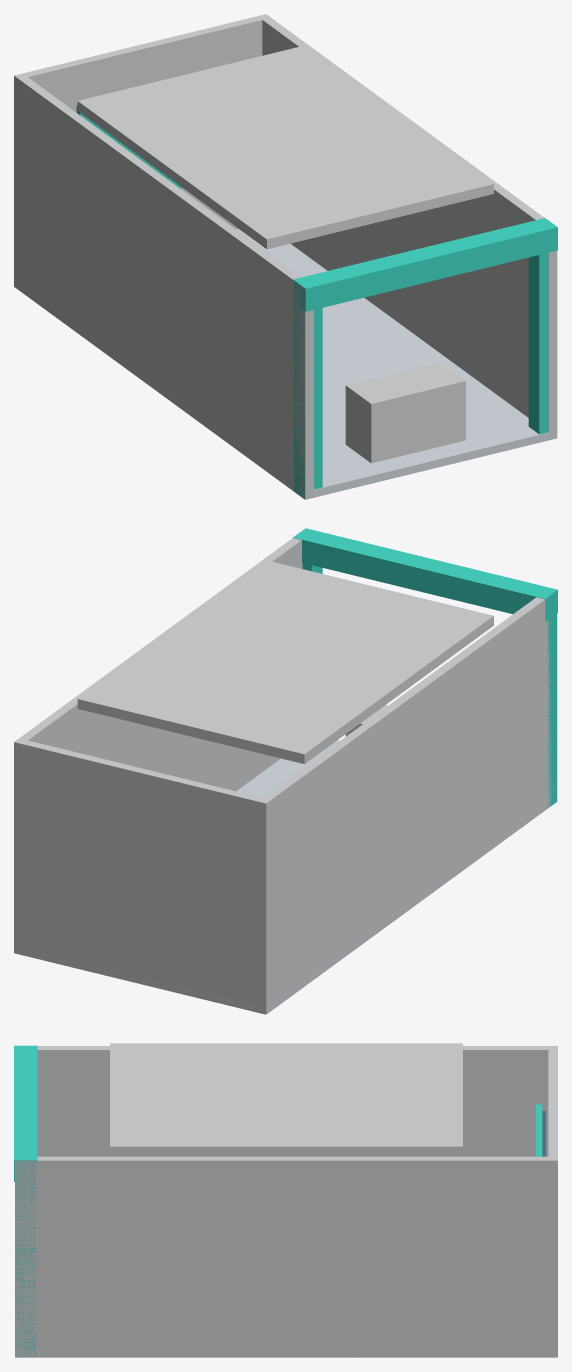
3 views of the same model, one above another, from view 1: azimuth 30°, elevation 25°; view 2: azimuth 150°, elevation 25°; view 3: azimuth 270°, elevation 25° (orthographic). The views are drawn at different scales.
Parts seen in each view (by area): view 1: Exhibition Booth Concept; view 2: Exhibition Booth Concept; view 3: Exhibition Booth Concept.
Boxes of the visible parts, x1,y1,x2,y2 form: Exhibition Booth Concept: [14, 14, 557, 499]; Exhibition Booth Concept: [14, 528, 557, 1014]; Exhibition Booth Concept: [14, 1043, 557, 1357].
Bounding box in the file's own units: 4 × 3.34 × 8.01.
